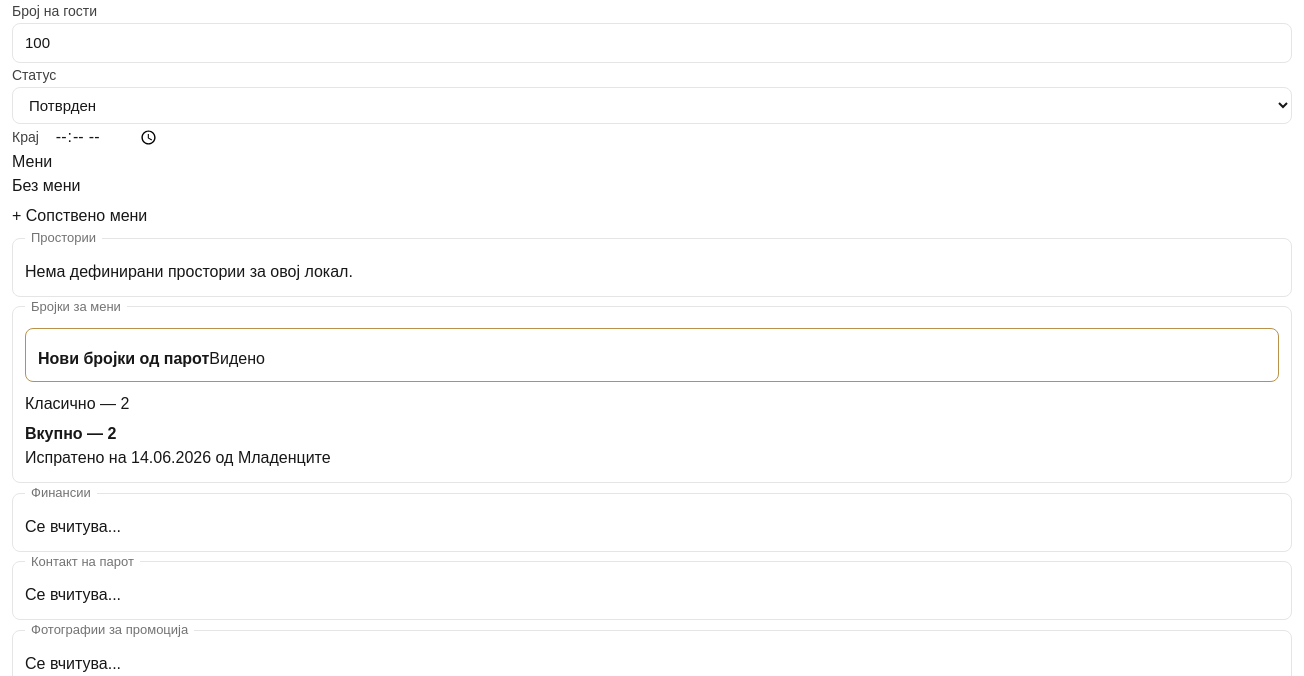
EventsClient deep link (B9 notifications) › an open event reflects refreshed data (Видено clears the highlight without closing)
This screenshot has width=1304, height=676.
(page scrolled)
Expected: the text "Нови бројки од парот" is shown, [38,350,209,368]
Click the button "Видено" at (237, 360), box [209,348,265,372]
(page scrolled)
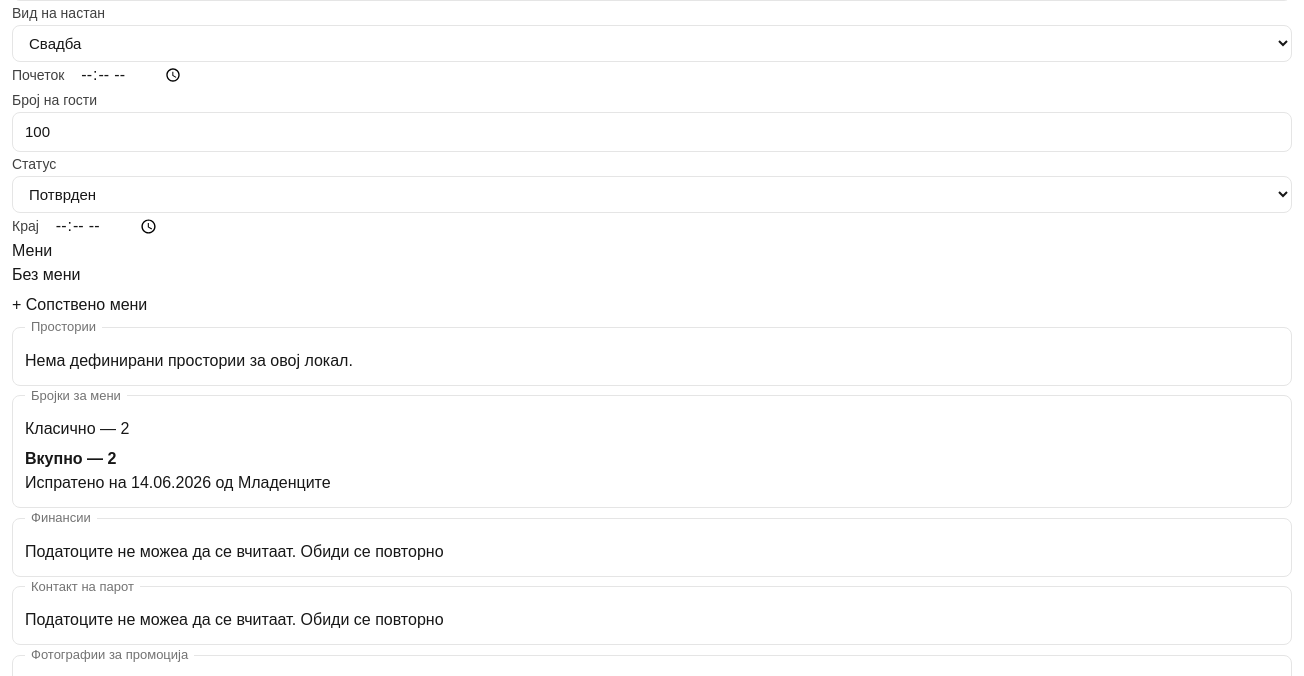
Now the text "Нови бројки од парот" is gone
